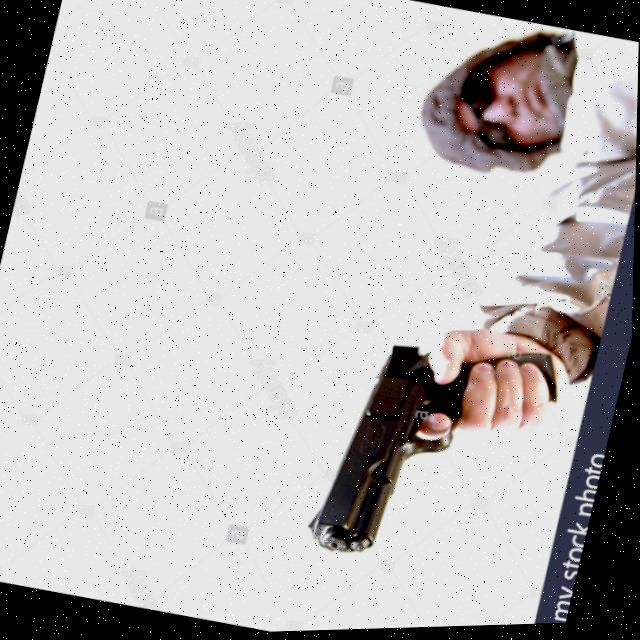pistol: (300, 331, 478, 576)
